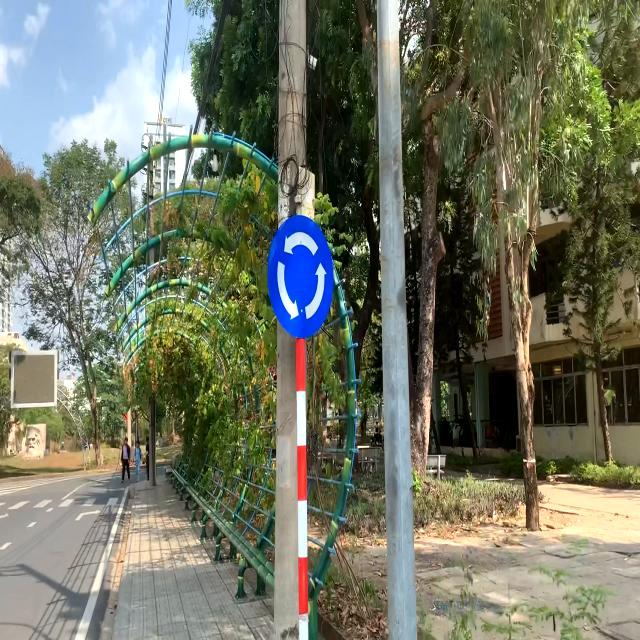Noi giao nhau chay theo vong xuyen: (266, 202, 334, 342)
